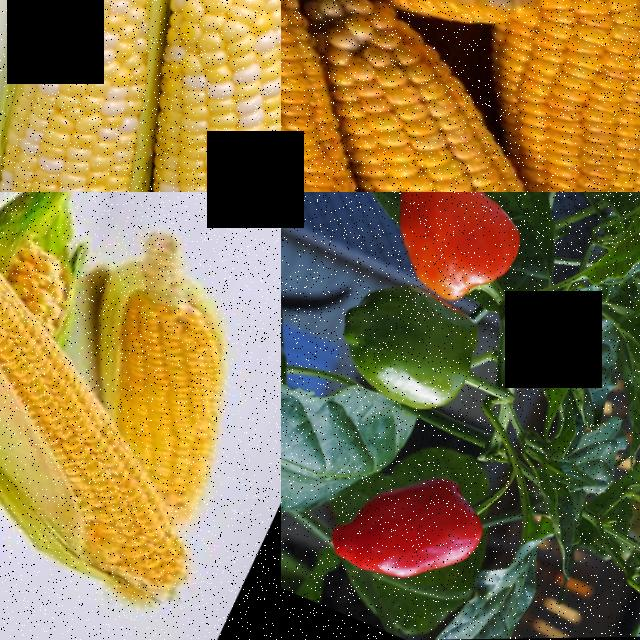chilli: (315, 426, 524, 623)
corn: (282, 0, 562, 192), (0, 192, 175, 454), (0, 419, 224, 613), (0, 0, 216, 191), (73, 262, 281, 460), (101, 0, 281, 192), (468, 47, 640, 192), (281, 0, 390, 192), (328, 127, 640, 192), (486, 0, 640, 131), (0, 99, 194, 192), (293, 0, 561, 44)
